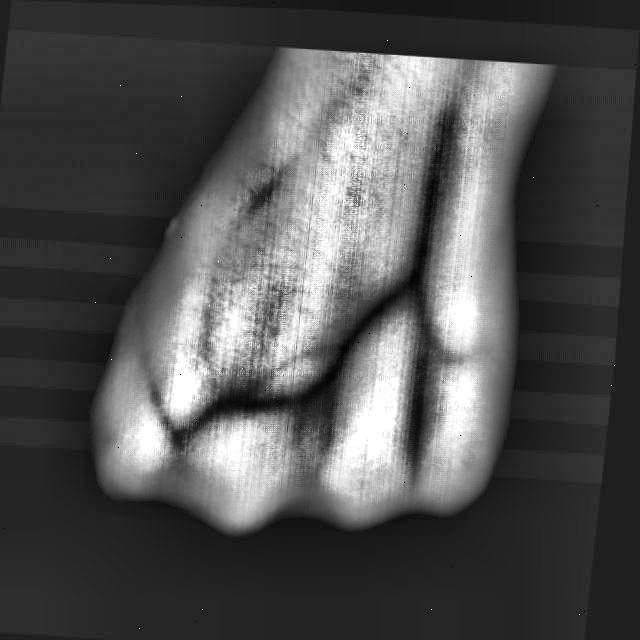Vein: (401, 115, 458, 286)
